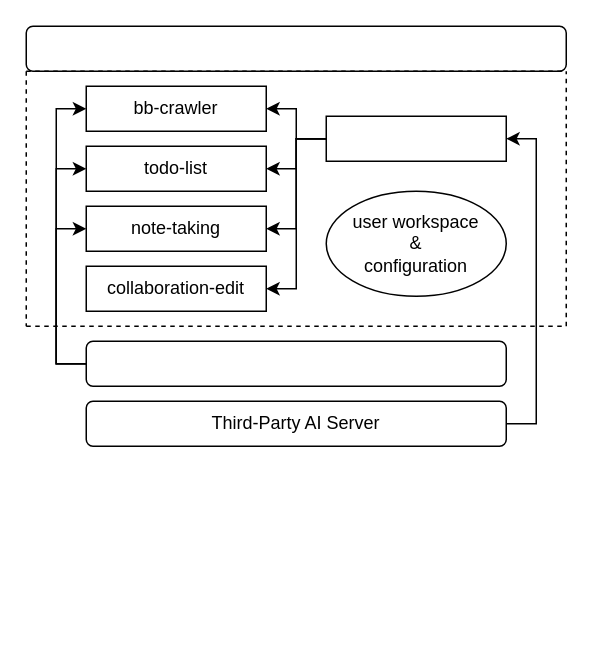
Some shapes in this 594 by 653 pixel diagram are drawn without their labels. Each missing label, with the centre of its shape:
ai-integration: (415,138)
Blackboard User Database: (295,363)
VSCode Extension API: (295,48)
